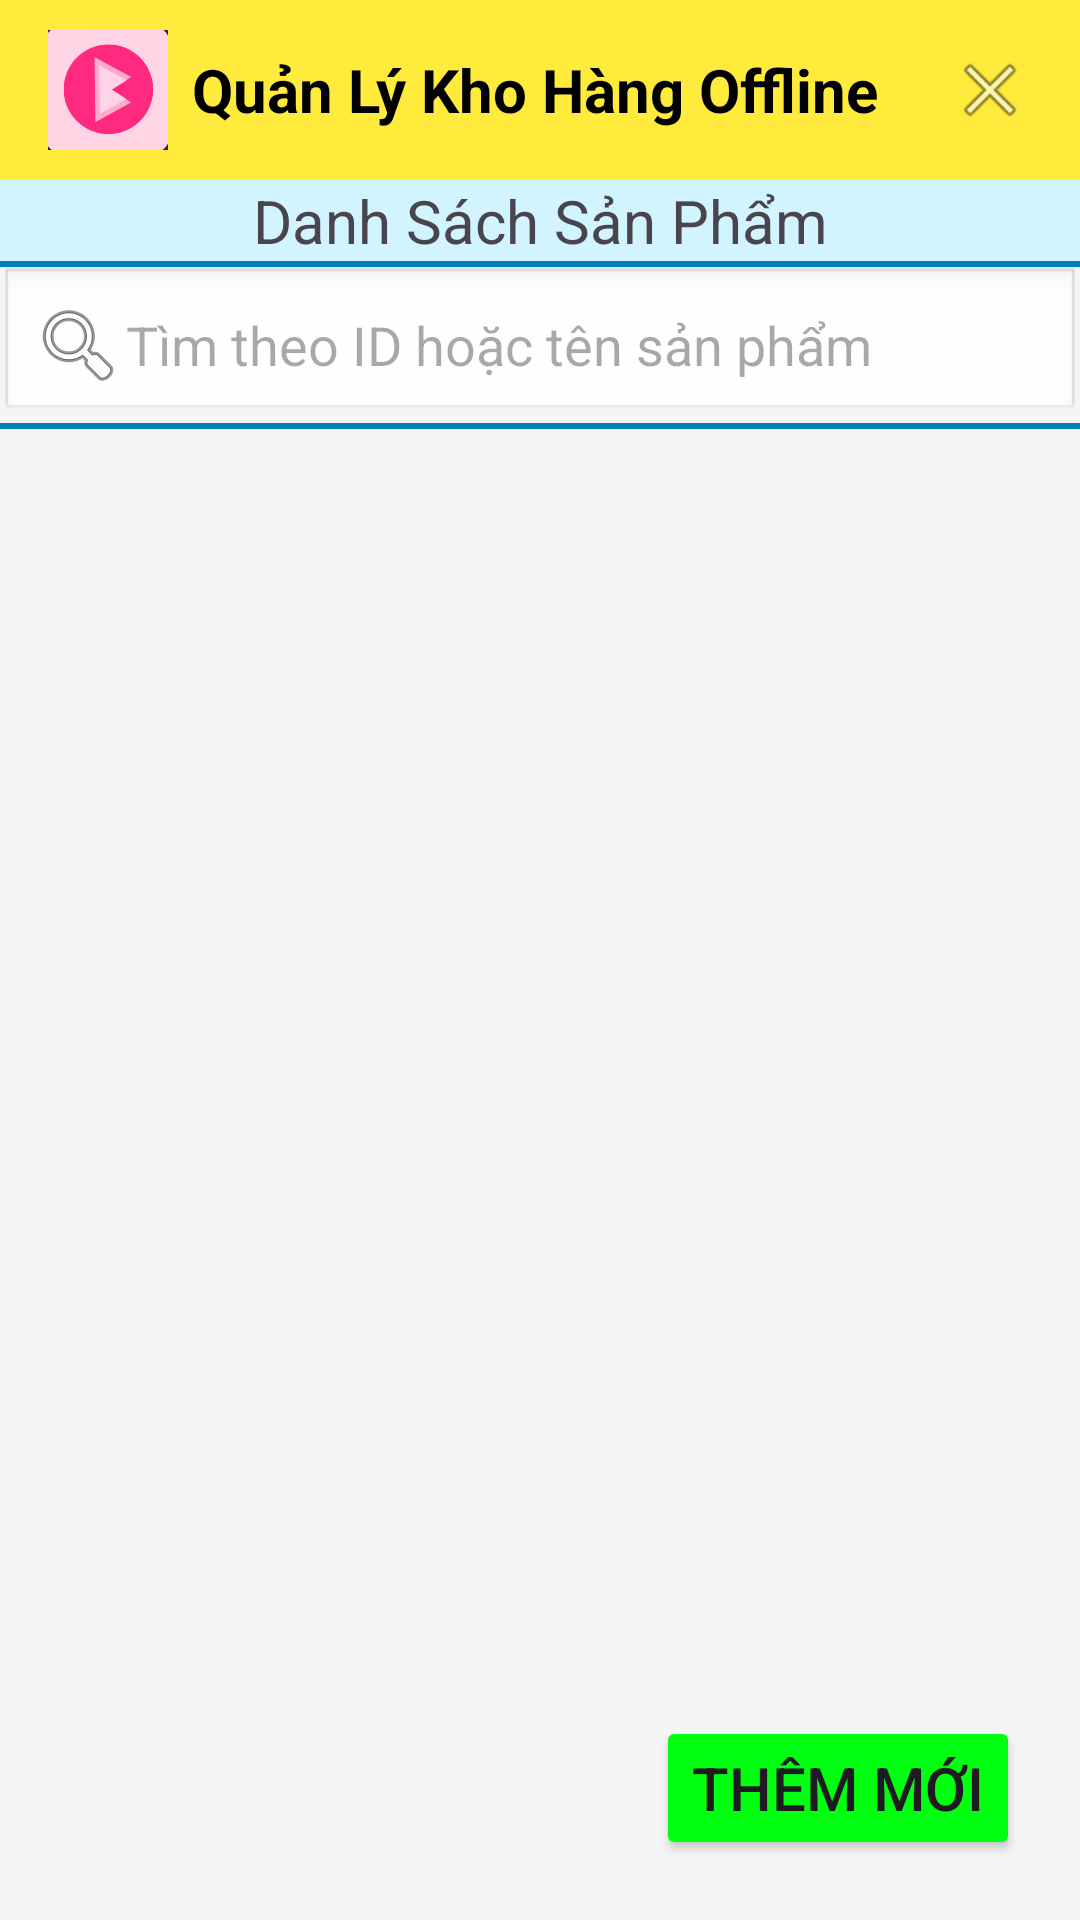

Where to tap for icons on this 1080px×1920px app screen, as (x,y):
iconapp: (108,90)
Thoát: (990,90)
